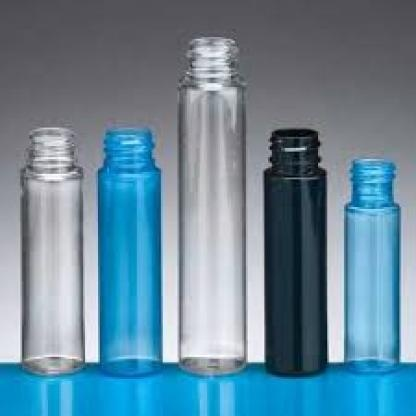trash: (179, 36, 245, 374), (98, 128, 161, 375), (21, 127, 83, 374), (264, 129, 326, 374), (345, 159, 399, 370)
